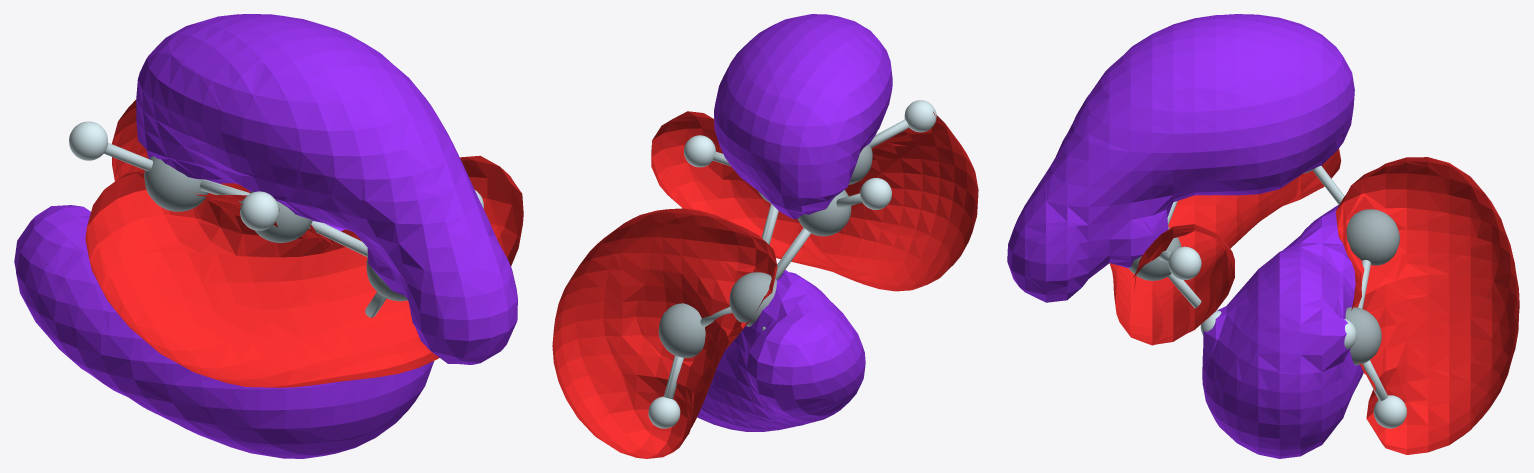
3 renders of one model, left to right at view 1: azimuth 30°, elevation 25°; view 2: azimuth 150°, elevation 25°; view 3: azimuth 270°, elevation 25°, orthographic. The views are drawn at different scales.
Parts seen in each view (by area): view 1: Renderer Node; view 2: Renderer Node; view 3: Renderer Node.
Boxes of the visible parts, bbox=[...] form: Renderer Node: bbox=[14, 14, 523, 458]; Renderer Node: bbox=[552, 14, 978, 458]; Renderer Node: bbox=[1007, 14, 1519, 458].
Bounding box in the file's own units: 4.55 × 5.2 × 6.12.
